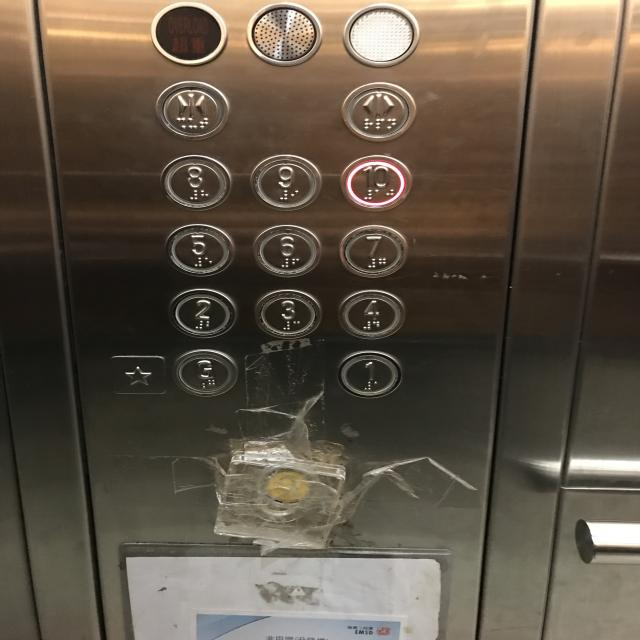1: (334, 348, 403, 398)
10: (338, 153, 414, 212)
2: (166, 287, 238, 340)
3: (250, 286, 323, 340)
4: (334, 288, 408, 341)
5: (161, 222, 235, 277)
6: (249, 224, 323, 278)
7: (336, 224, 410, 279)
8: (156, 153, 233, 212)
9: (247, 153, 323, 212)
G: (170, 348, 240, 398)
close: (152, 79, 230, 141)
empty: (341, 2, 421, 67)
open: (339, 80, 418, 142)
s: (107, 354, 167, 396)
speaker: (244, 1, 324, 66)
text_overload: (149, 0, 228, 66)
